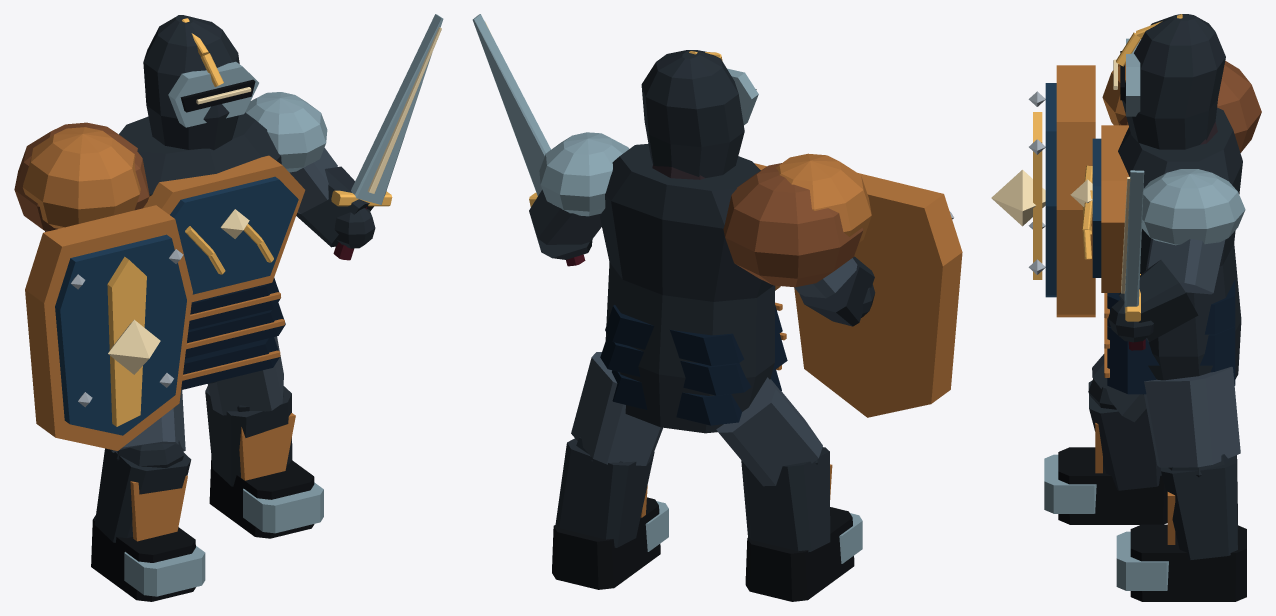
The model's file is class-fighter.glb.
3 renders of one model, left to right at view 1: azimuth 30°, elevation 25°; view 2: azimuth 150°, elevation 25°; view 3: azimuth 270°, elevation 25°, orthographic. The views are drawn at different scales.
Visible parts, largest first — view 1: Class Fighter.001; view 2: Class Fighter.001; view 3: Class Fighter.001.
Part boxes in pixels (left/top/right/bottom): Class Fighter.001: left=14, top=14, right=443, bottom=601; Class Fighter.001: left=472, top=14, right=962, bottom=601; Class Fighter.001: left=991, top=14, right=1261, bottom=601.
Bounding box in the file's own units: 1.64 × 1.86 × 0.861.
Materials: 1 (1 with a texture image).
